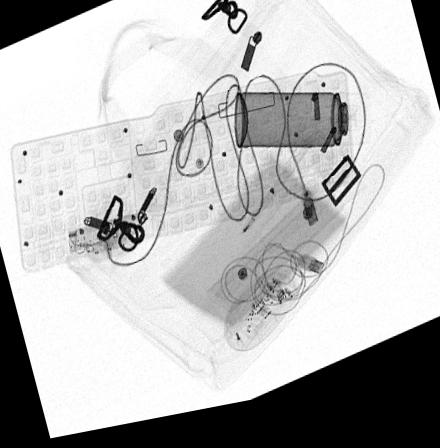Sprayer: (233, 101, 370, 159)
